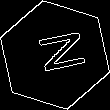N_W: (25, 30, 85, 80)
